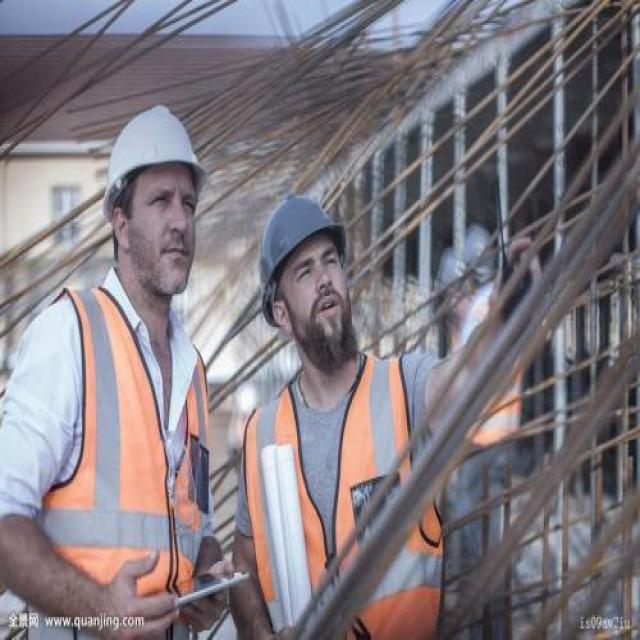helmet: (96, 100, 211, 229), (252, 186, 356, 321)
